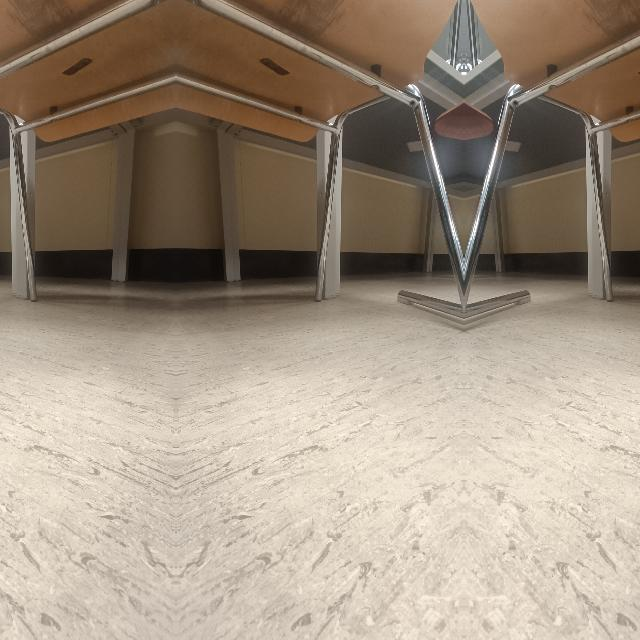obstacle: (374, 70, 464, 340), (463, 70, 552, 340)
